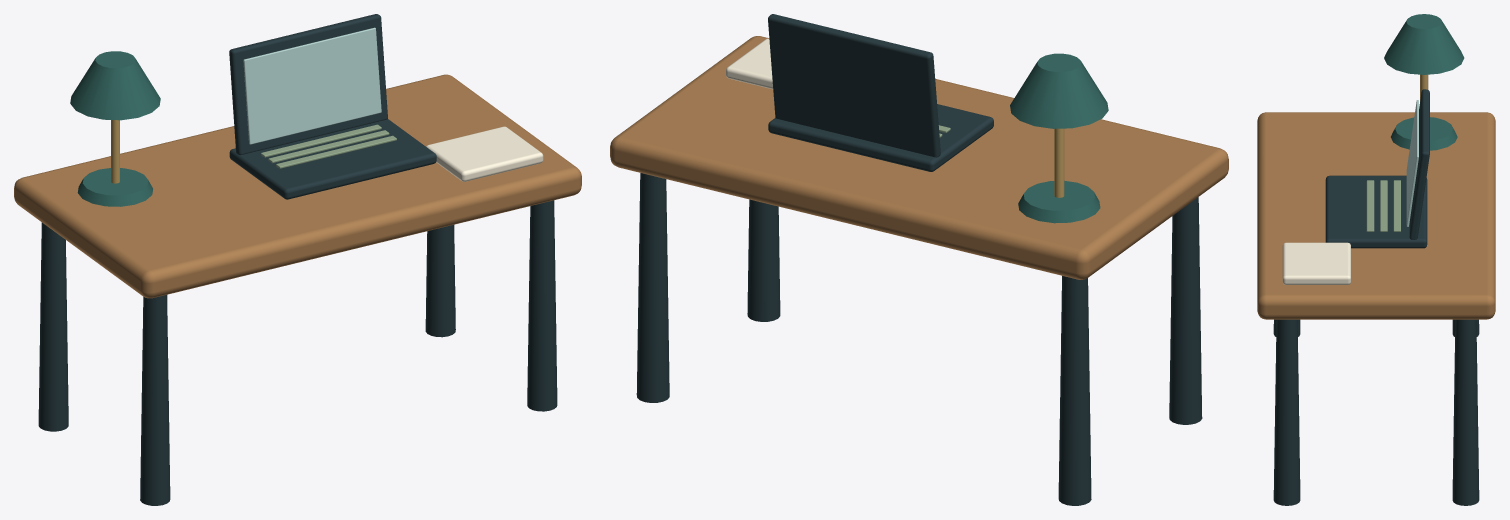
File: desk.glb
3 views of the same model, side by side, from view 1: azimuth 30°, elevation 25°; view 2: azimuth 150°, elevation 25°; view 3: azimuth 270°, elevation 25° (orthographic). The views are drawn at different scales.
Visible parts, largest first — view 1: desktop, leg (×4), screen, keyboard-base, display-shell, shade, notebook, key-row (×3), base; view 2: desktop, leg (×4), display-shell, shade, keyboard-base, base, notebook, stem; view 3: desktop, leg (×2), keyboard-base, shade, notebook, display-shell, key-row (×3), base, screen.
Part boxes in pixels (x1,y1,x2,y2): desktop: (14,74,581,298); leg (×4): (38,200,557,505); screen: (243,27,381,144); keyboard-base: (229,119,436,199); display-shell: (229,14,387,154); shade: (70,51,160,120); notebook: (426,126,543,181); key-row (×3): (261,124,396,168); base: (77,168,152,206); desktop: (610,36,1228,279); leg (×4): (636,173,1202,505); display-shell: (768,14,940,157); shade: (1010,53,1108,128); keyboard-base: (768,104,993,171); base: (1018,180,1100,223); notebook: (726,38,773,89); stem: (1054,128,1064,197); desktop: (1257,112,1495,319); leg (×2): (1273,319,1479,505); keyboard-base: (1325,175,1427,248); shade: (1384,14,1464,74); notebook: (1282,242,1350,284); display-shell: (1409,89,1429,239); key-row (×3): (1366,180,1400,231); base: (1391,117,1457,150); screen: (1406,100,1418,226).
Size of the model in its own units: 1.5 by 1.22 by 0.8.
